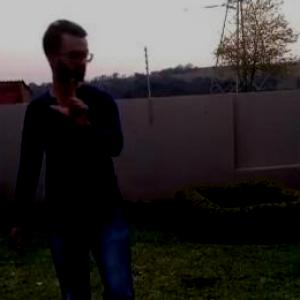land_hand: (50, 69, 94, 128)
